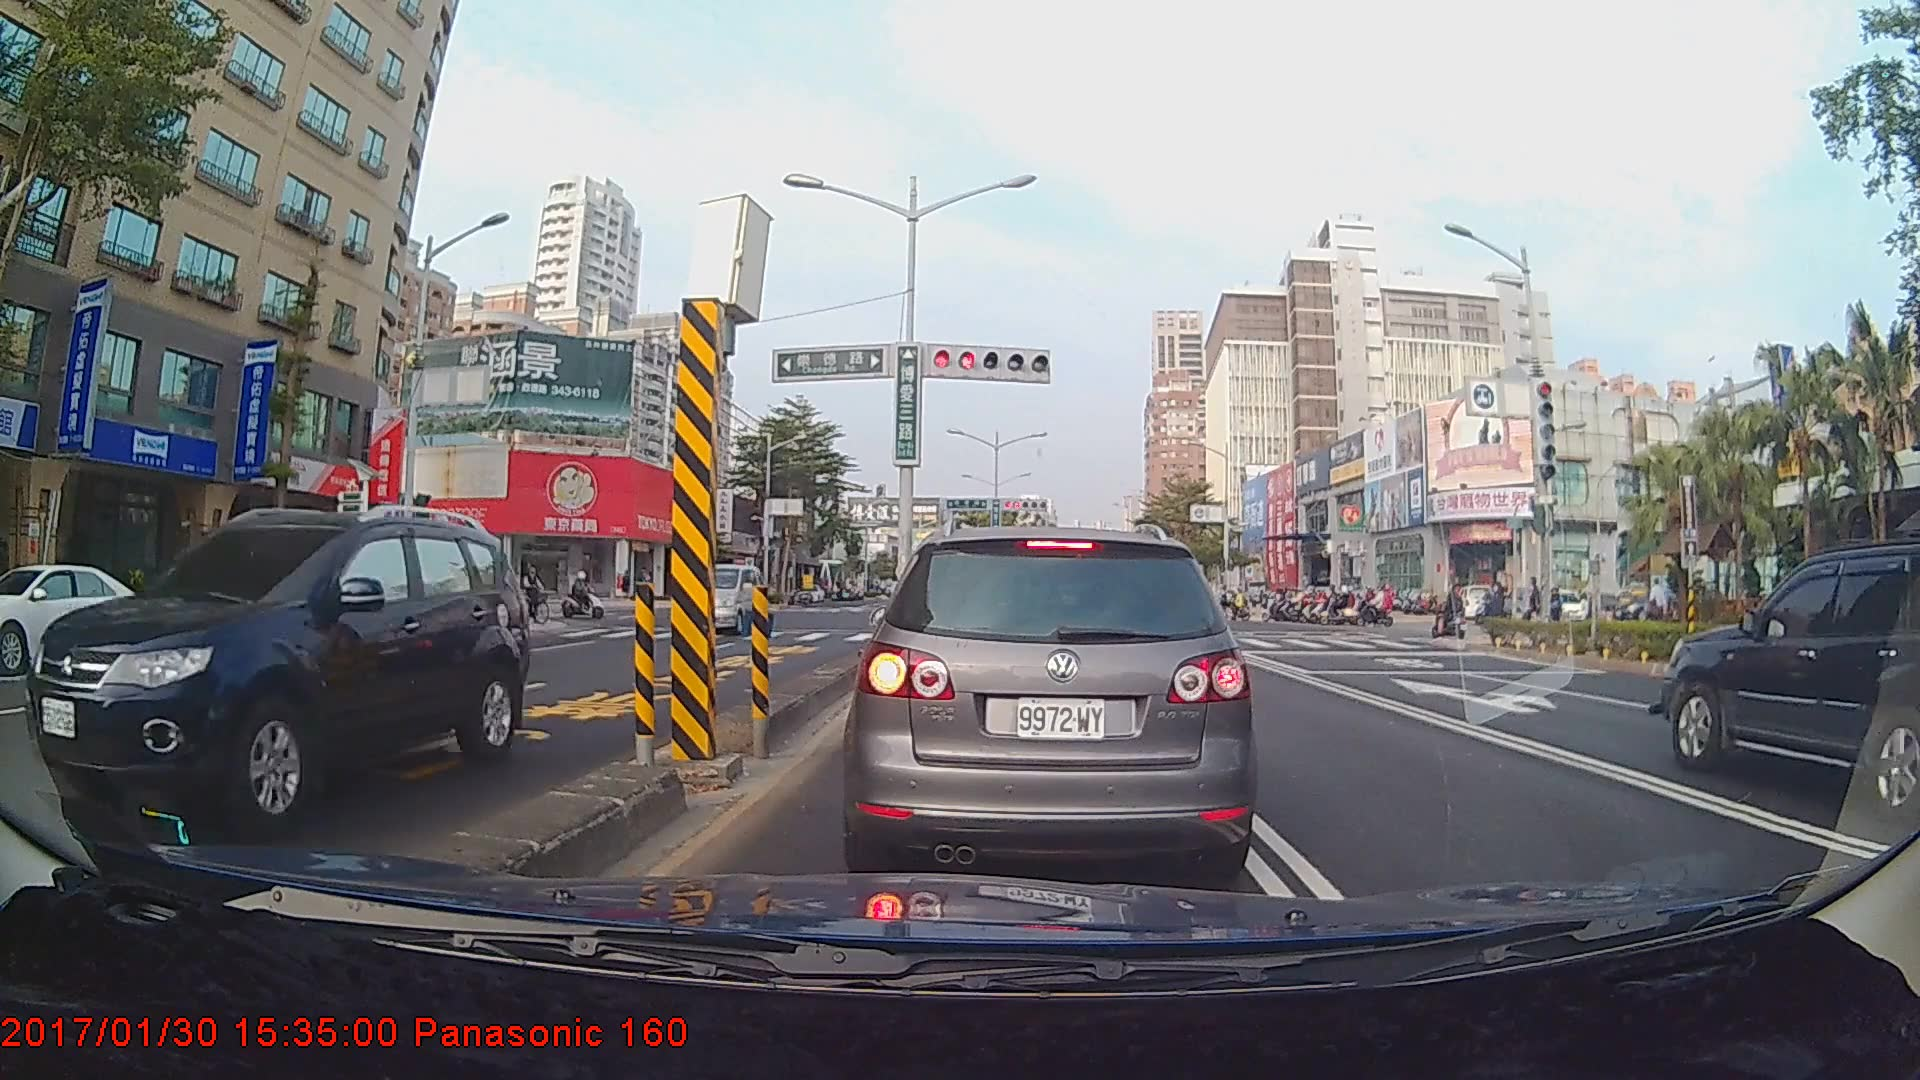pedestrian: (1649, 577, 1670, 635)
rider: (562, 566, 609, 619), (1428, 583, 1466, 638)
vehicle: (22, 508, 528, 840), (836, 515, 1261, 881), (1659, 533, 1920, 809), (0, 561, 159, 674), (668, 561, 765, 635)
